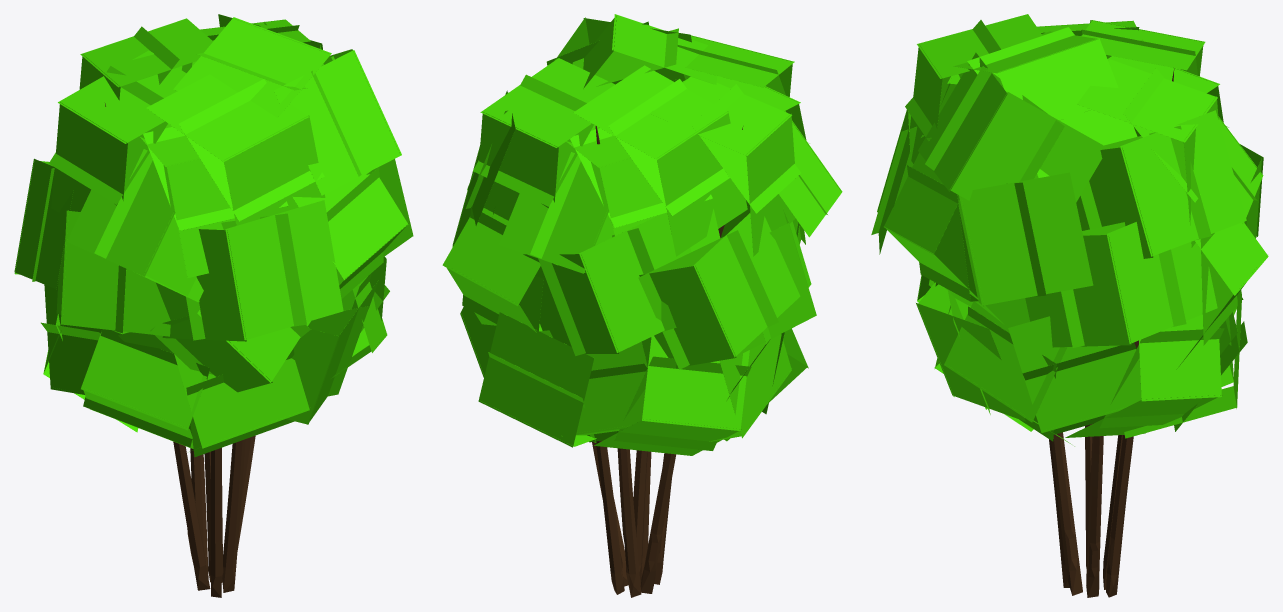
Rendered from Bush_Hazel.fbx.
The picture shows the model from 3 angles, left to right: view 1: azimuth 30°, elevation 25°; view 2: azimuth 150°, elevation 25°; view 3: azimuth 270°, elevation 25°; orthographic projection. The views are drawn at different scales.
Parts seen in each view (by area): view 1: Leaves.019, Leaves.020, Leaves.022, Leaves.021, Leaves.024, Leaves.002, Leaves.006, Leaves.030, Leaves.008, Leaves.018, Leaves.023, Leaves.007 (+14 smaller); view 2: Leaves.028, Leaves.005, Leaves.016, Leaves.027, Leaves.014, Leaves.003, Leaves.022, Leaves.015, Leaves.025, Leaves.030, Leaves.026, Leaves.004 (+14 smaller); view 3: Leaves.029, Leaves.009, Leaves.021, Leaves.010, Leaves.030, Leaves.013, Leaves.012, Leaves.018, Leaves.027, Leaves.011, Leaves.020, Leaves.015 (+15 smaller).
Part boxes in pixels (box(x1,y1,x2,y2)): Leaves.019: box(156, 200, 343, 341); Leaves.020: box(146, 74, 325, 225); Leaves.022: box(49, 50, 186, 212); Leaves.021: box(274, 49, 401, 195); Leaves.024: box(66, 149, 203, 301); Leaves.002: box(81, 329, 209, 448); Leaves.006: box(56, 210, 170, 336); Leaves.030: box(173, 17, 332, 117); Leaves.008: box(174, 349, 309, 456); Leaves.018: box(292, 167, 409, 298); Leaves.023: box(140, 123, 288, 277); Leaves.007: box(118, 310, 310, 392); Leaves.028: box(573, 65, 747, 256); Leaves.005: box(638, 213, 800, 369); Leaves.016: box(523, 212, 691, 355); Leaves.027: box(473, 58, 614, 220); Leaves.014: box(478, 312, 596, 447); Leaves.003: box(594, 336, 751, 455); Leaves.022: box(649, 76, 800, 256); Leaves.015: box(442, 206, 543, 332); Leaves.025: box(499, 152, 614, 273); Leaves.030: box(572, 14, 717, 88); Leaves.026: box(566, 125, 720, 251); Leaves.004: box(540, 330, 647, 442); Leaves.029: box(1076, 110, 1246, 258); Leaves.009: box(1025, 222, 1217, 347); Leaves.021: box(918, 52, 1108, 202); Leaves.010: box(958, 172, 1093, 306); Leaves.030: box(954, 27, 1137, 177); Leaves.013: box(1008, 316, 1141, 434); Leaves.012: box(1065, 314, 1224, 437); Leaves.018: box(884, 153, 1003, 323); Leaves.027: box(1077, 59, 1218, 247); Leaves.011: box(944, 298, 1074, 446); Leaves.020: box(905, 14, 1042, 163); Leaves.015: box(1176, 222, 1268, 369).
Bounding box in the file's own units: 275 × 428 × 273.
